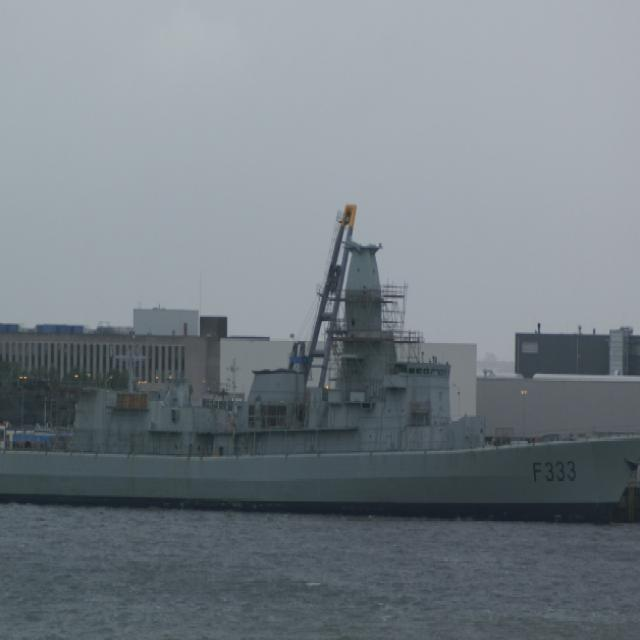Fragata: (1, 224, 640, 543)
